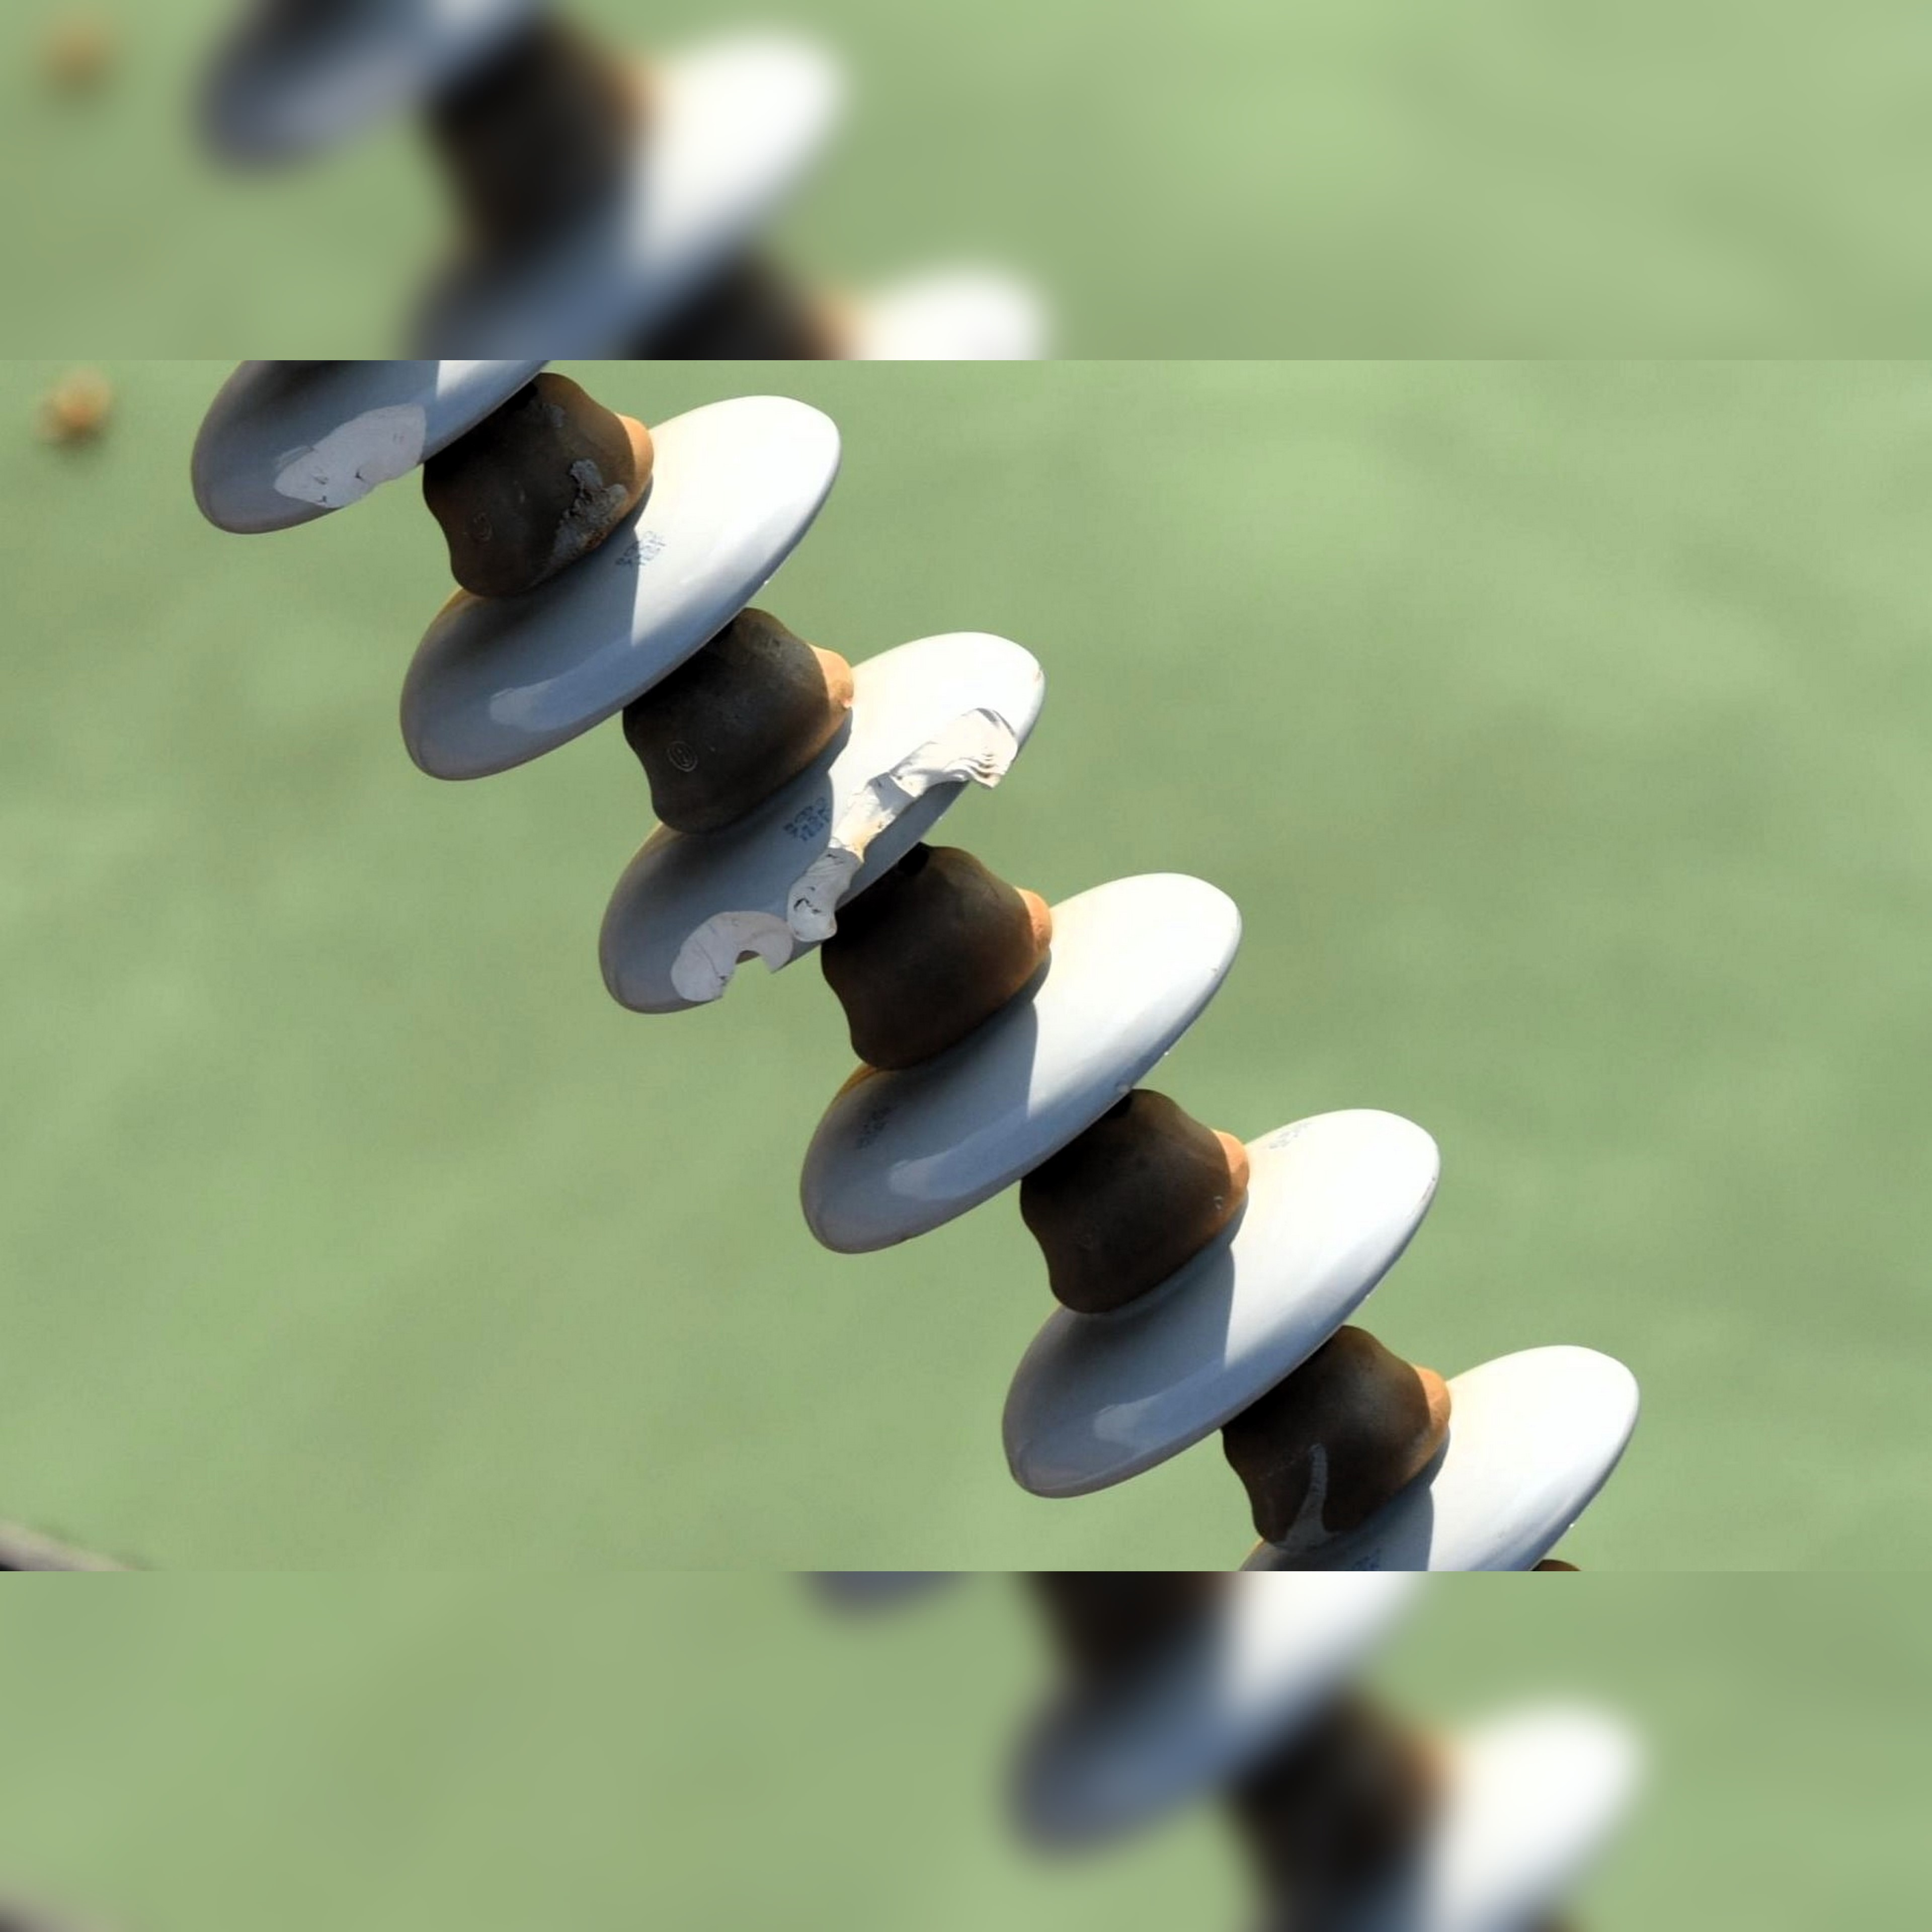insulator breakage: (584, 625, 1076, 1056)
